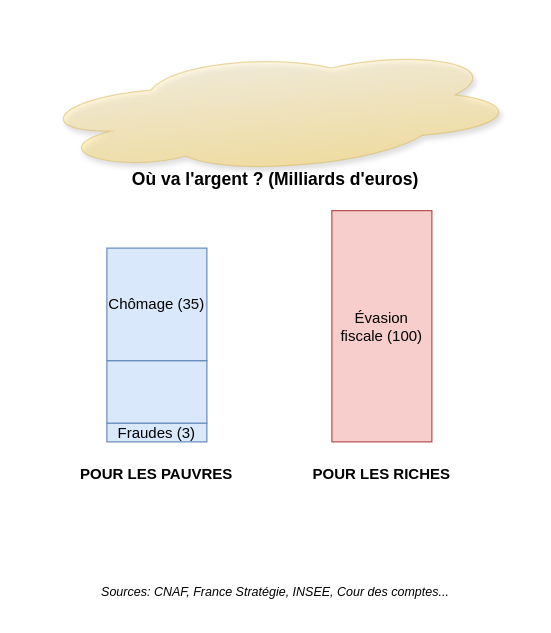
This 551x633 diagram has some shape labels left out. The shapes that lost their labels are listed below. From the top down, each one's centre as x and y in pixels, then its label:
At (274,111): "LA FRANCE PAYS D'ASSISTÉS !".
At (156,391): "RSA (15)".
